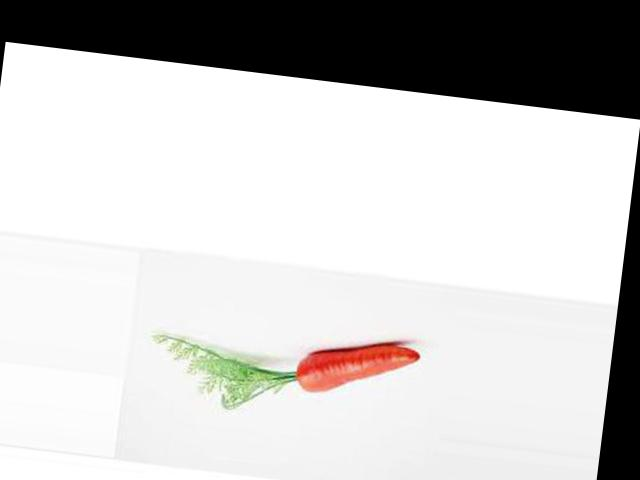carrot: (292, 318, 434, 404)
